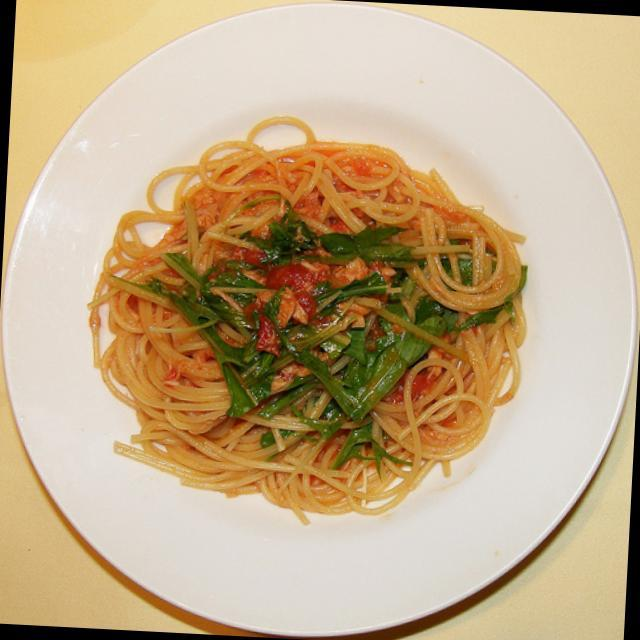Pasta: (75, 125, 530, 520)
